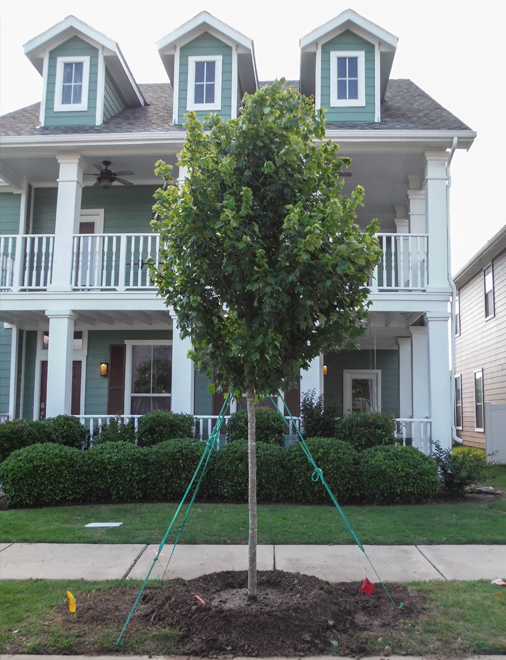bush: (1, 432, 440, 498)
tree: (139, 85, 374, 598)
